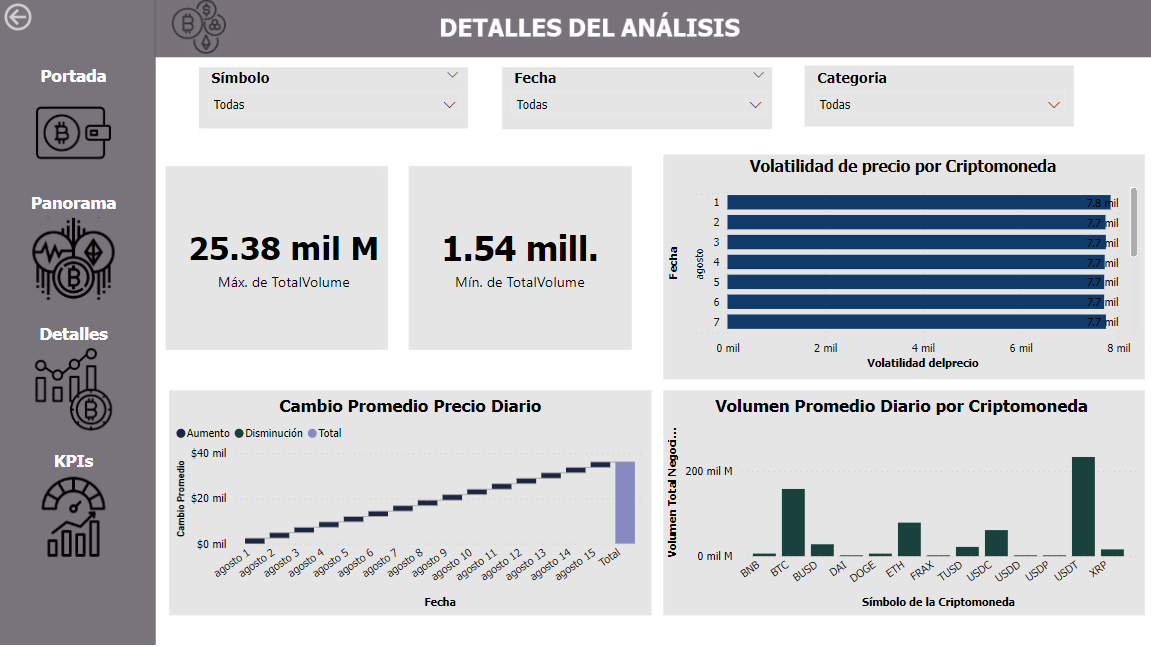

Layout of this report page (visuals, bound fields, positions):
{"tool":"powerbi","page":{"name":"Detalles","canvas":[1280,720],"ordinal":2},"visuals":[{"type":"stackedAreaChart","title":"Volatilidad de precio por Criptomoneda","fields":{"Y":["Cryptocurrency.Volatilidad Precio"],"Category":["Cryptocurrency.Date.Variación.Jerarquía de fechas.Mes"],"Series":["Cryptocurrency.Currency"]},"box":[738.3,175,530,241.7],"z":0},{"type":"columnChart","title":"Volumen Total de Negociación por Criptomoneda","fields":{"Category":["Cripto_Id.Symbol","Cripto_Id.Currency"],"Y":["Cryptocurrency.Volumen Total de Negociación por Criptomoneda"]},"box":[736.7,440,530,241.7],"z":1000},{"type":"waterfallChart","title":"Cambio Promedio Precio Diario","fields":{"Category":["calendario.Date.Variación.Jerarquía de fechas.Mes","calendario.Date.Variación.Jerarquía de fechas.Día","Cryptocurrency.Currency"],"Y":["Cryptocurrency.Cambio Promedio Precio Diario"]},"box":[190,440,531.7,241.7],"z":2000},{"type":"actionButton","box":[0,0,100,40],"z":3000},{"type":"slicer","fields":{"Values":["calendario.Date"]},"box":[558.3,71.7,303.3,73.3],"z":4000},{"type":"gauge","title":"Máximo del Volumen Total","fields":{"Y":["Max(Cryptocurrency.TotalVolume)"]},"box":[190,186.7,241.7,200],"z":5000},{"type":"gauge","title":"Mínimo del Volumen Total","fields":{"Y":["Min(Cryptocurrency.TotalVolume)"]},"box":[456.7,186.7,241.7,200],"z":6000},{"type":"slicer","fields":{"Values":["Cripto_Id.Category"]},"box":[895,71.7,298.3,73.3],"z":7000},{"type":"slicer","fields":{"Values":["Cripto_Id.Symbol"]},"box":[221.7,71.7,300,73.3],"z":8000},{"type":"actionButton","title":"Portada","box":[0,73.3,163.3,123.3],"z":8001},{"type":"actionButton","title":"Panorama","box":[0,215,163.3,123.3],"z":8002},{"type":"actionButton","title":"Detalles","box":[0,360,163.3,123.3],"z":8003},{"type":"actionButton","title":"KPIs","box":[0,501.7,163.3,123.3],"z":8004}]}

Visuals, with their boxes on the page's 1280x720 design canvas (x1, y1, x2, y2). These are canvas units, not pixel positions in the 1151x647 screenshot, which may show the page scaled, cropped or inside an application window:
"Volatilidad de precio por Criptomoneda" stackedAreaChart: locate(738, 175, 1268, 417)
"Volumen Total de Negociación por Criptomoneda" columnChart: locate(737, 440, 1267, 682)
"Cambio Promedio Precio Diario" waterfallChart: locate(190, 440, 722, 682)
actionButton: locate(0, 0, 100, 40)
slicer - calendario.Date: locate(558, 72, 862, 145)
"Máximo del Volumen Total" gauge: locate(190, 187, 432, 387)
"Mínimo del Volumen Total" gauge: locate(457, 187, 698, 387)
slicer - Cripto_Id.Category: locate(895, 72, 1193, 145)
slicer - Cripto_Id.Symbol: locate(222, 72, 522, 145)
"Portada" actionButton: locate(0, 73, 163, 197)
"Panorama" actionButton: locate(0, 215, 163, 338)
"Detalles" actionButton: locate(0, 360, 163, 483)
"KPIs" actionButton: locate(0, 502, 163, 625)
